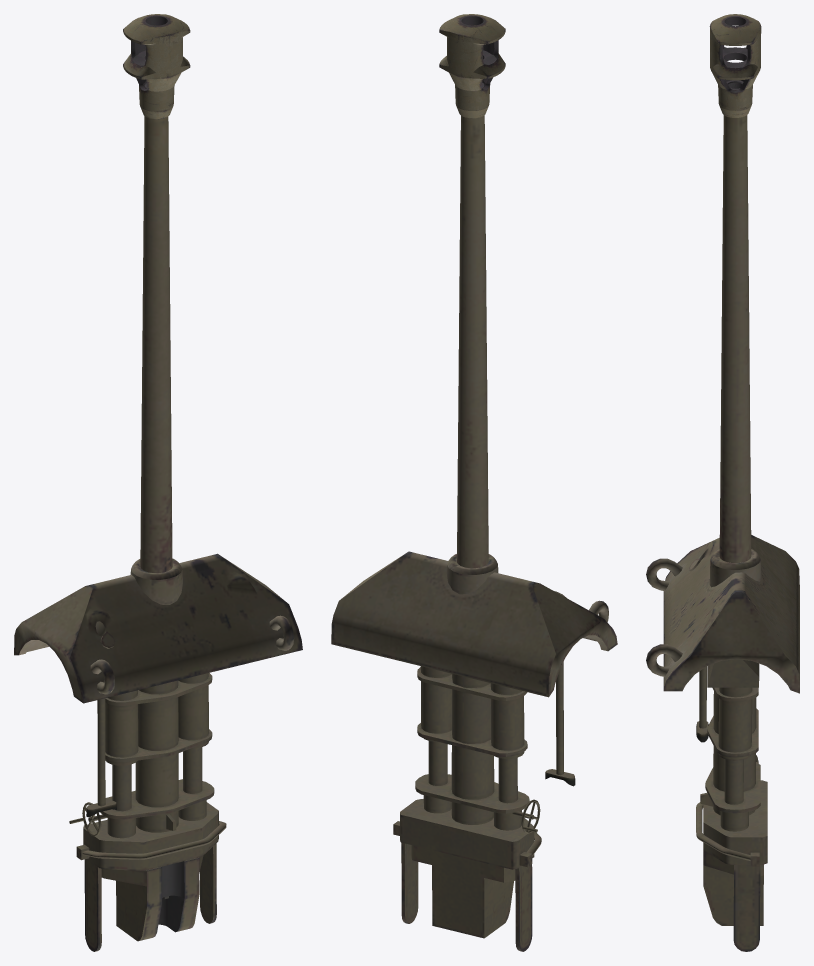
File: Gun_03.glb
3 renders of one model, left to right at view 1: azimuth 30°, elevation 25°; view 2: azimuth 150°, elevation 25°; view 3: azimuth 270°, elevation 25°, orthographic.
Parts seen in each view (by area): view 1: set_0_group_0; view 2: set_0_group_0; view 3: set_0_group_0.
Boxes of the visible parts, left/top/right/bottom form: set_0_group_0: left=14, top=14, right=302, bottom=951; set_0_group_0: left=331, top=14, right=617, bottom=951; set_0_group_0: left=646, top=14, right=799, bottom=951.
Size of the model in its own units: 1.18 by 4.74 by 0.7329.
1 material, 1 textured.
